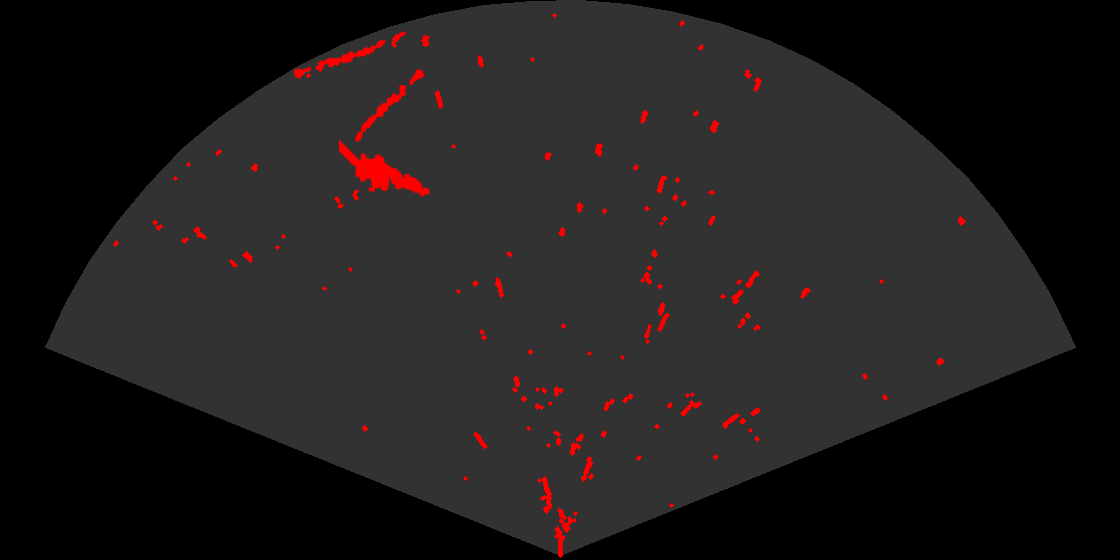chain: (353, 68, 426, 143), (291, 38, 388, 81)
frogman: (339, 138, 432, 198)
